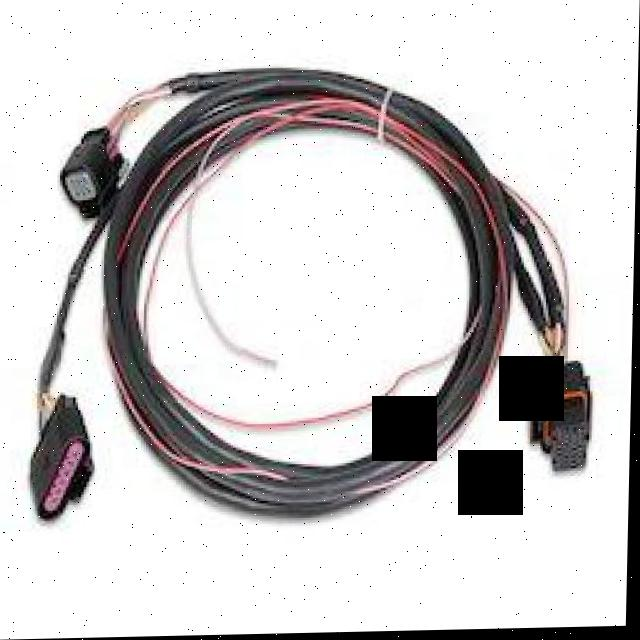connector: (13, 391, 115, 528), (47, 119, 138, 223), (531, 363, 592, 474)
